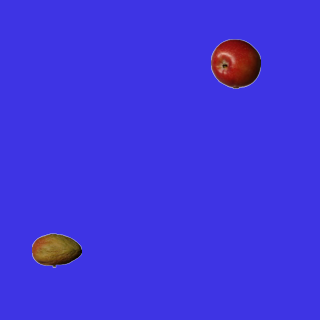Apple Braeburn: (210, 38, 260, 88)
Papaya: (31, 225, 81, 275)
